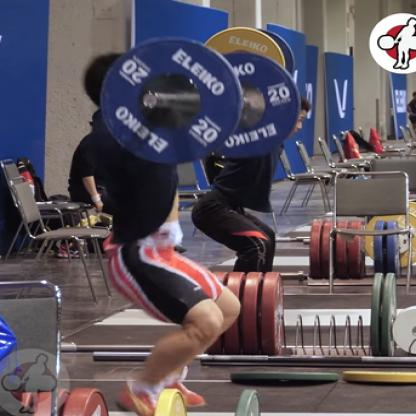Barbell: (98, 31, 250, 170)
